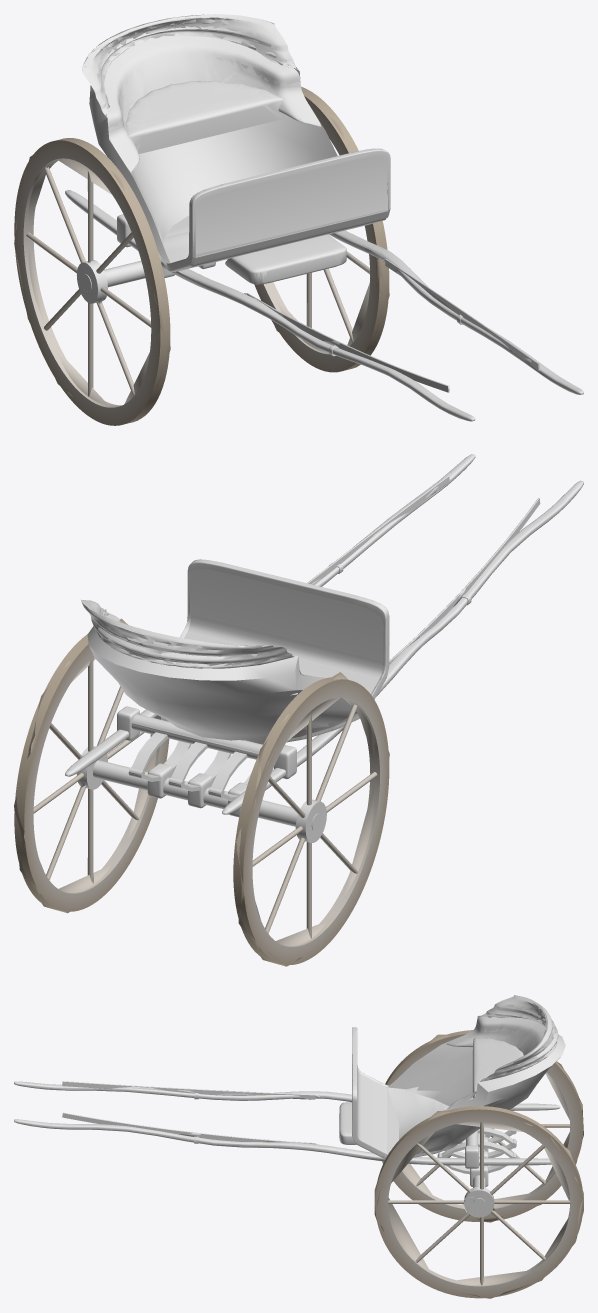
The model's file is sulky_gig.glb.
The picture shows the model from 3 angles, top to bottom: view 1: azimuth 30°, elevation 25°; view 2: azimuth 150°, elevation 25°; view 3: azimuth 270°, elevation 25°; orthographic projection. The views are drawn at different scales.
Visible parts, largest first — view 1: Body_LOD, Body_Mesh, Wheel.R_Mesh, Wheel.L_Mesh, Wheel.R_LOD, Wheel.L_LOD; view 2: Body_LOD, Body_Mesh, Wheel.R_Mesh, Wheel.L_Mesh, Wheel.R_LOD, Wheel.L_LOD; view 3: Body_LOD, Body_Mesh, Wheel.L_Mesh, Wheel.R_Mesh, Wheel.L_LOD, Wheel.R_LOD.
Boxes of the visible parts, bbox=[...] form: Body_LOD: bbox=[65, 14, 583, 421]; Body_Mesh: bbox=[65, 14, 583, 421]; Wheel.R_Mesh: bbox=[14, 138, 170, 425]; Wheel.L_Mesh: bbox=[254, 86, 389, 372]; Wheel.R_LOD: bbox=[14, 138, 170, 420]; Wheel.L_LOD: bbox=[272, 114, 389, 367]; Body_LOD: bbox=[65, 455, 581, 831]; Body_Mesh: bbox=[65, 454, 583, 830]; Wheel.R_Mesh: bbox=[233, 677, 389, 965]; Wheel.L_Mesh: bbox=[14, 634, 169, 911]; Wheel.R_LOD: bbox=[236, 672, 389, 966]; Wheel.L_LOD: bbox=[14, 618, 156, 913]; Body_LOD: bbox=[14, 995, 565, 1201]; Body_Mesh: bbox=[14, 995, 559, 1200]; Wheel.L_Mesh: bbox=[375, 1106, 583, 1298]; Wheel.R_Mesh: bbox=[382, 1030, 583, 1221]; Wheel.L_LOD: bbox=[374, 1110, 583, 1298]; Wheel.R_LOD: bbox=[402, 1034, 583, 1222].
Size of the model in its own units: 1.28 by 1.75 by 3.83.
